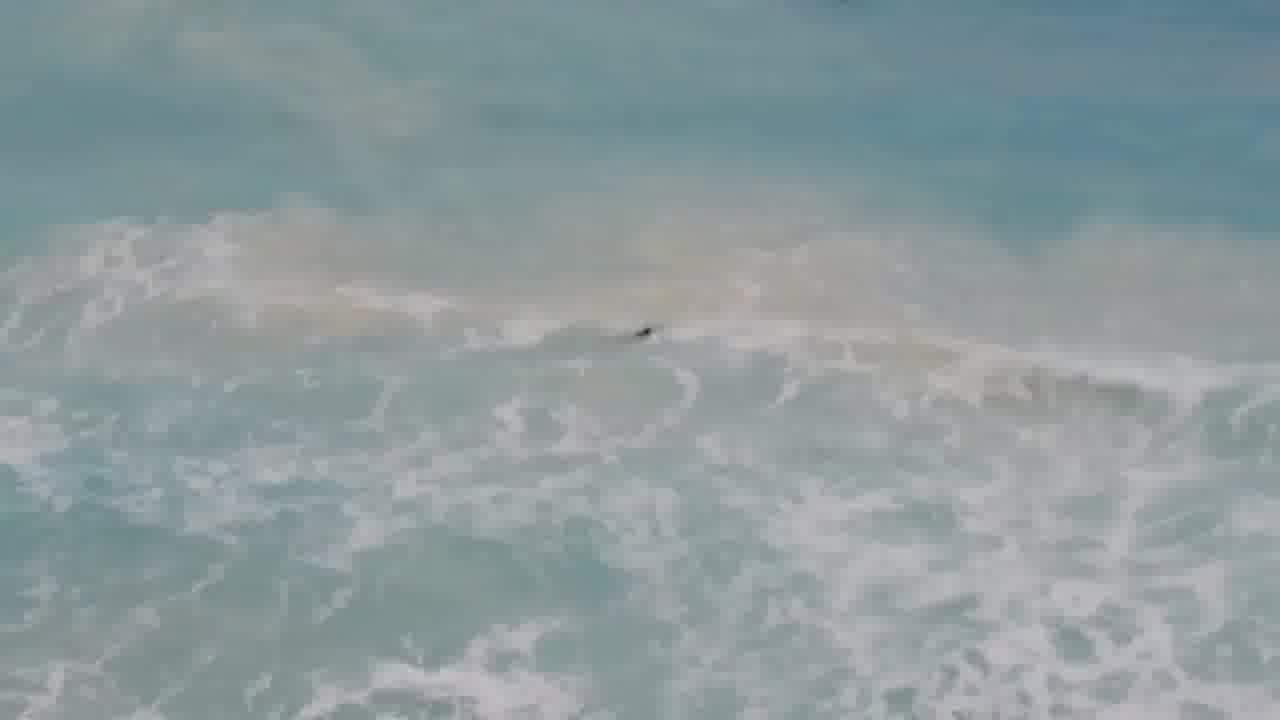swimmer: (628, 314, 663, 350)
